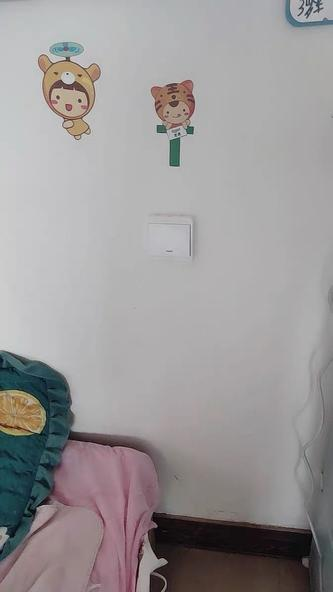switch: (148, 217, 195, 261)
